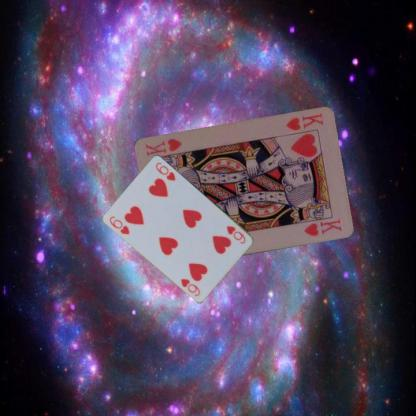6h: (107, 214, 131, 236), (224, 223, 247, 245)
Kh: (283, 110, 324, 132)
